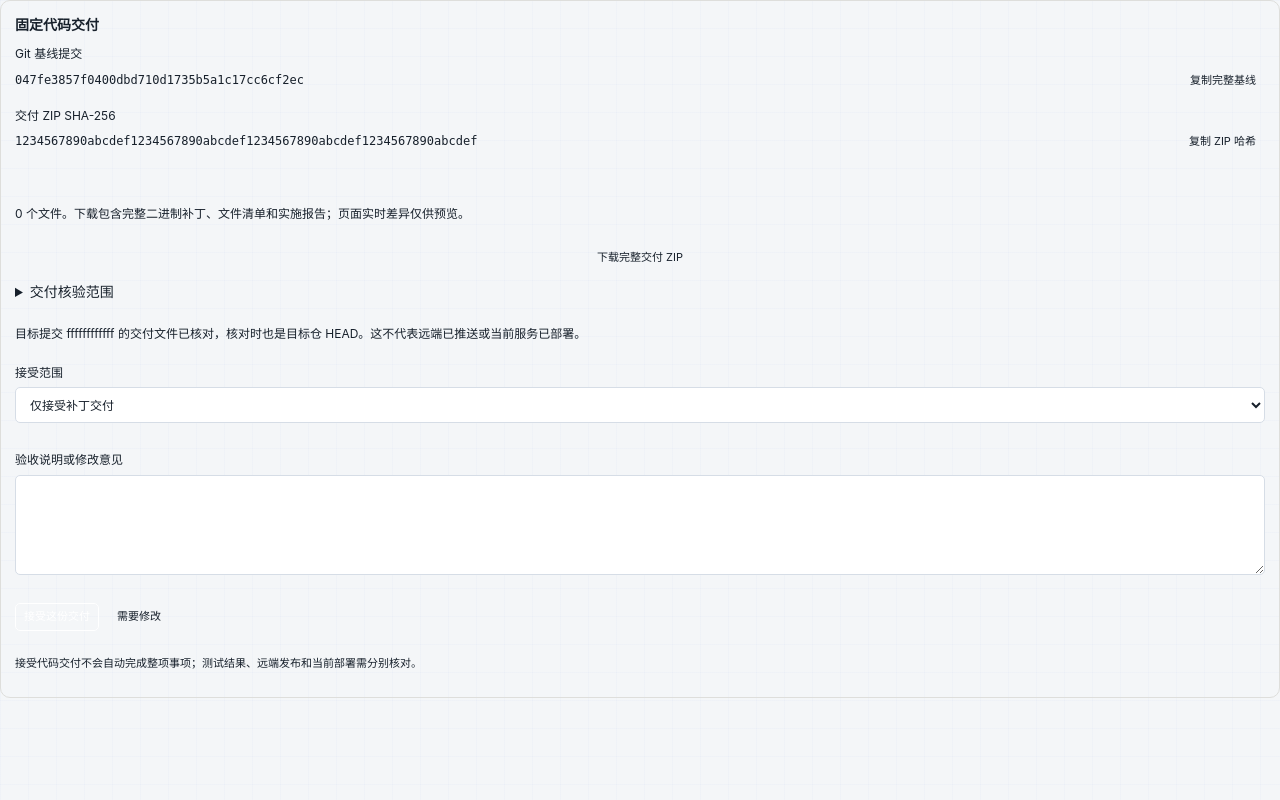
offers manual copying when the clipboard API is incomplete: {}
Click the button "复制完整基线" at (1223, 81), box [1181,67,1265,95]
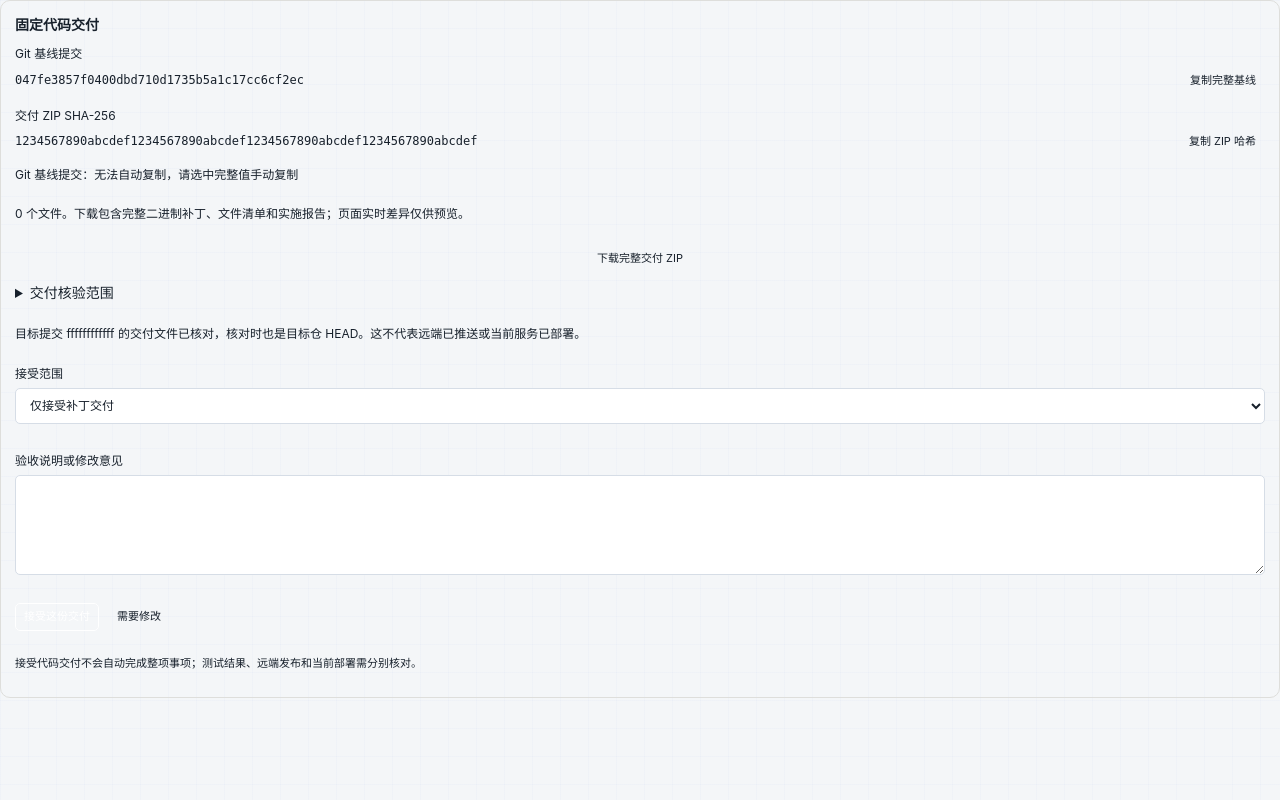
Expected: the text "047fe3857f0400dbd710d1735b5a1c17cc6cf2ec" is shown, [15,73,304,87]
Expected: the message "Git 基线提交：无法自动复制，请选中完整值手动复制" is shown, [15,167,298,182]
